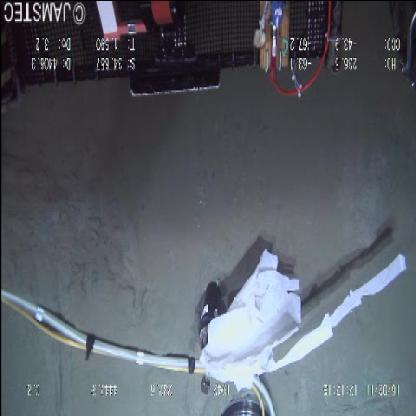Rov: (2, 1, 346, 110)
Rác: (192, 236, 410, 392)
